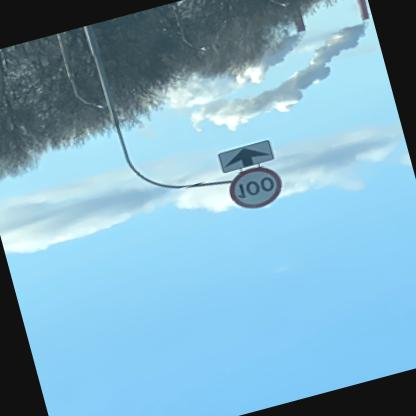speedlimit: (222, 162, 285, 215)
